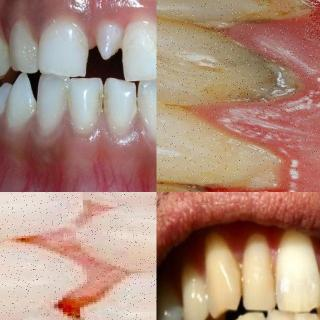Gum Swelling: (202, 0, 320, 192)
cavities: (310, 258, 320, 298)
maligned: (242, 235, 280, 307), (88, 12, 130, 68), (123, 26, 157, 76)
plaque: (162, 47, 314, 111), (178, 117, 292, 187), (174, 0, 315, 36), (8, 23, 38, 71), (156, 174, 216, 192)
stains: (89, 88, 113, 118)
